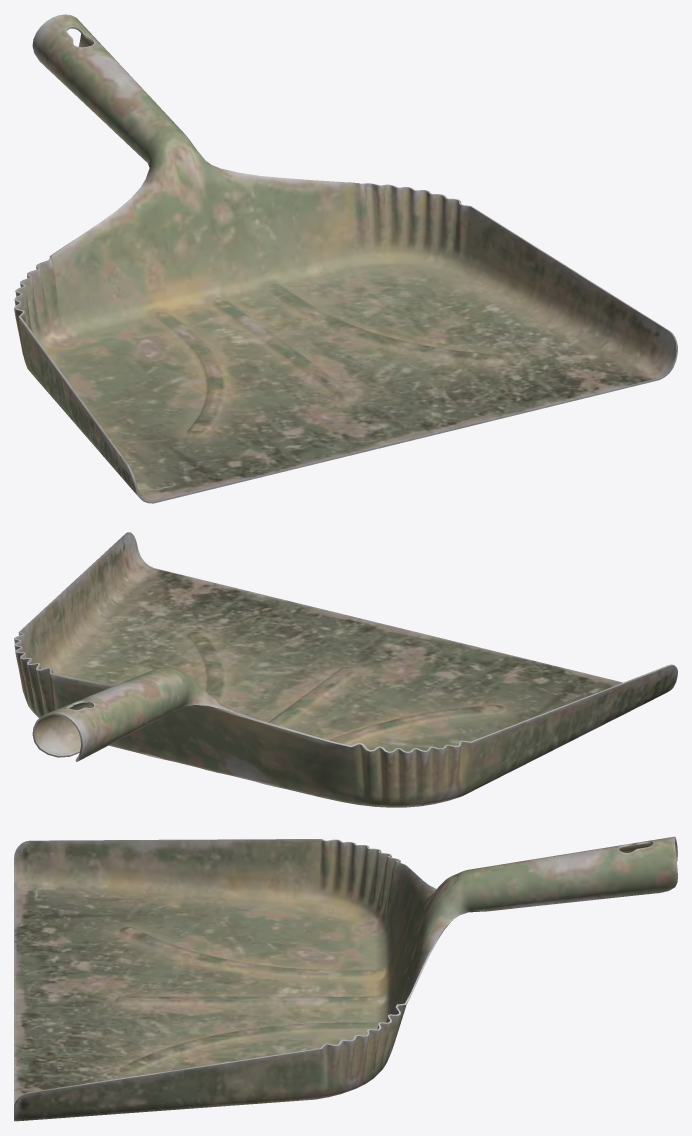
The model's file is dustpan.84c20c81.glb.
3 renders of one model, top to bottom at view 1: azimuth 30°, elevation 25°; view 2: azimuth 150°, elevation 25°; view 3: azimuth 270°, elevation 25°, orthographic. The views are drawn at different scales.
Parts seen in each view (by area): view 1: dustpan; view 2: dustpan; view 3: dustpan.
Part boxes in pixels (x1,y1,x2,y2): dustpan: [14, 14, 677, 503]; dustpan: [14, 532, 677, 807]; dustpan: [14, 836, 677, 1121].
Size of the model in its own units: 0.6498 by 0.1963 by 0.72.
1 material, 1 textured.
